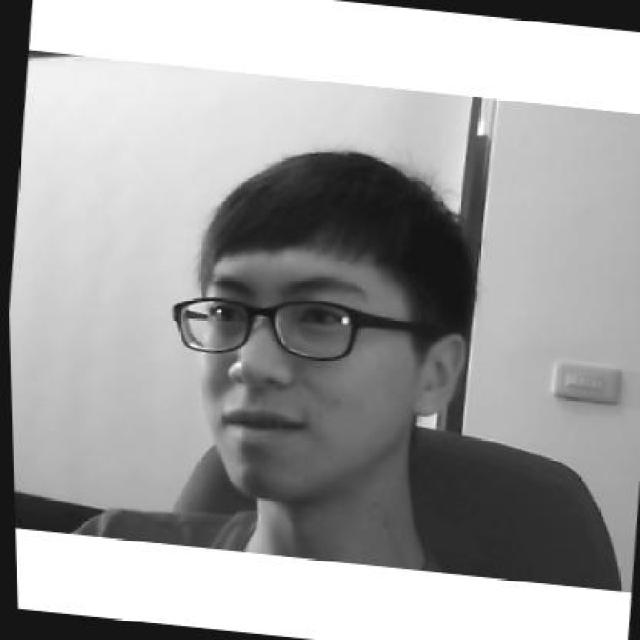attentif: (145, 133, 487, 515)
